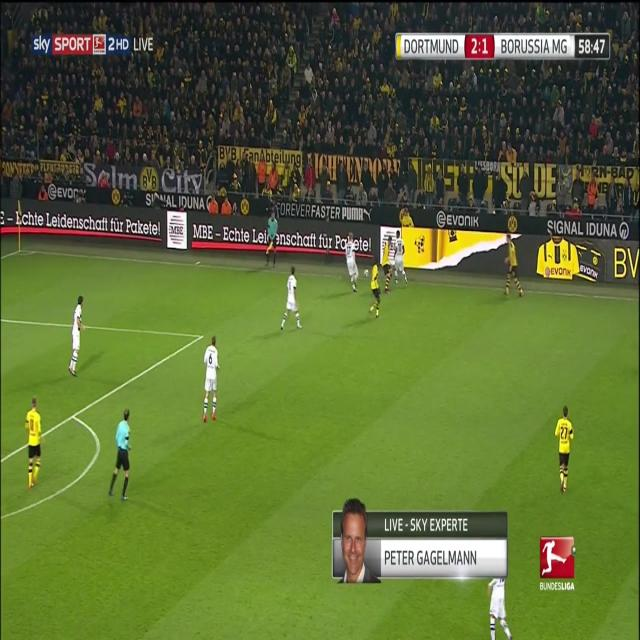Ball: (363, 264, 371, 282)
Player: (553, 403, 576, 496), (25, 394, 45, 489), (202, 334, 222, 426), (486, 578, 516, 639), (66, 292, 86, 377), (502, 233, 526, 300), (278, 265, 302, 331), (392, 227, 411, 289), (344, 233, 361, 293), (370, 258, 383, 322), (382, 233, 394, 298)
Referee: (108, 407, 134, 502), (264, 210, 280, 267)
